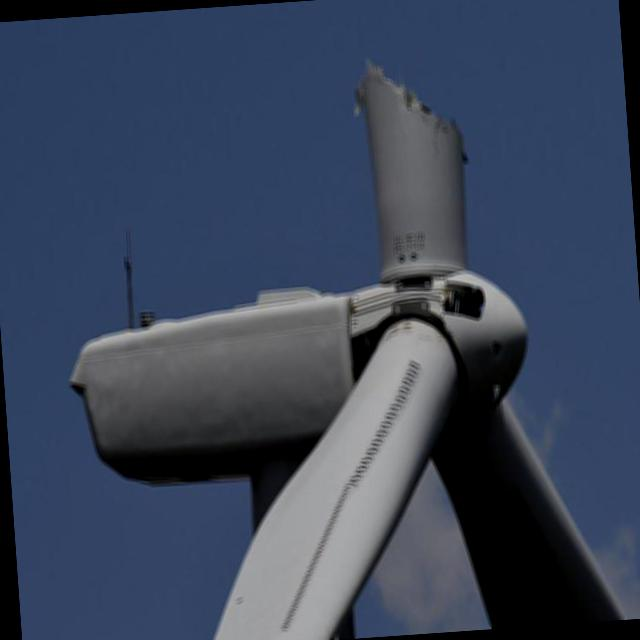crack: (314, 3, 517, 246)
